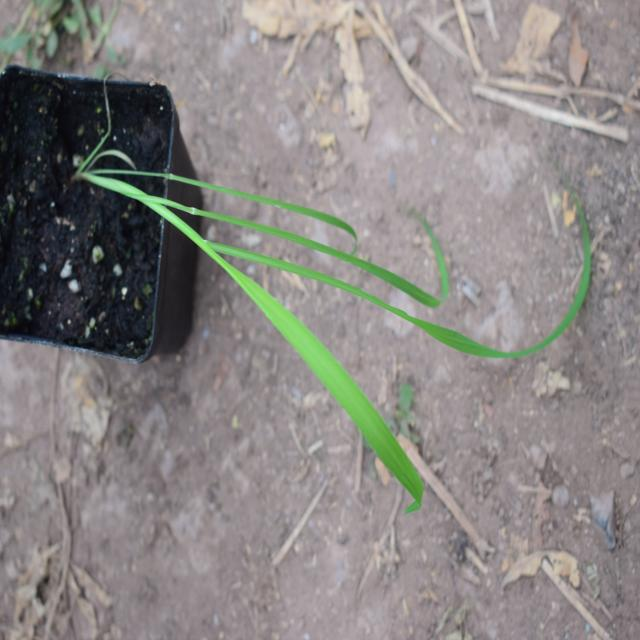barnyard_grass: (59, 134, 576, 493)
